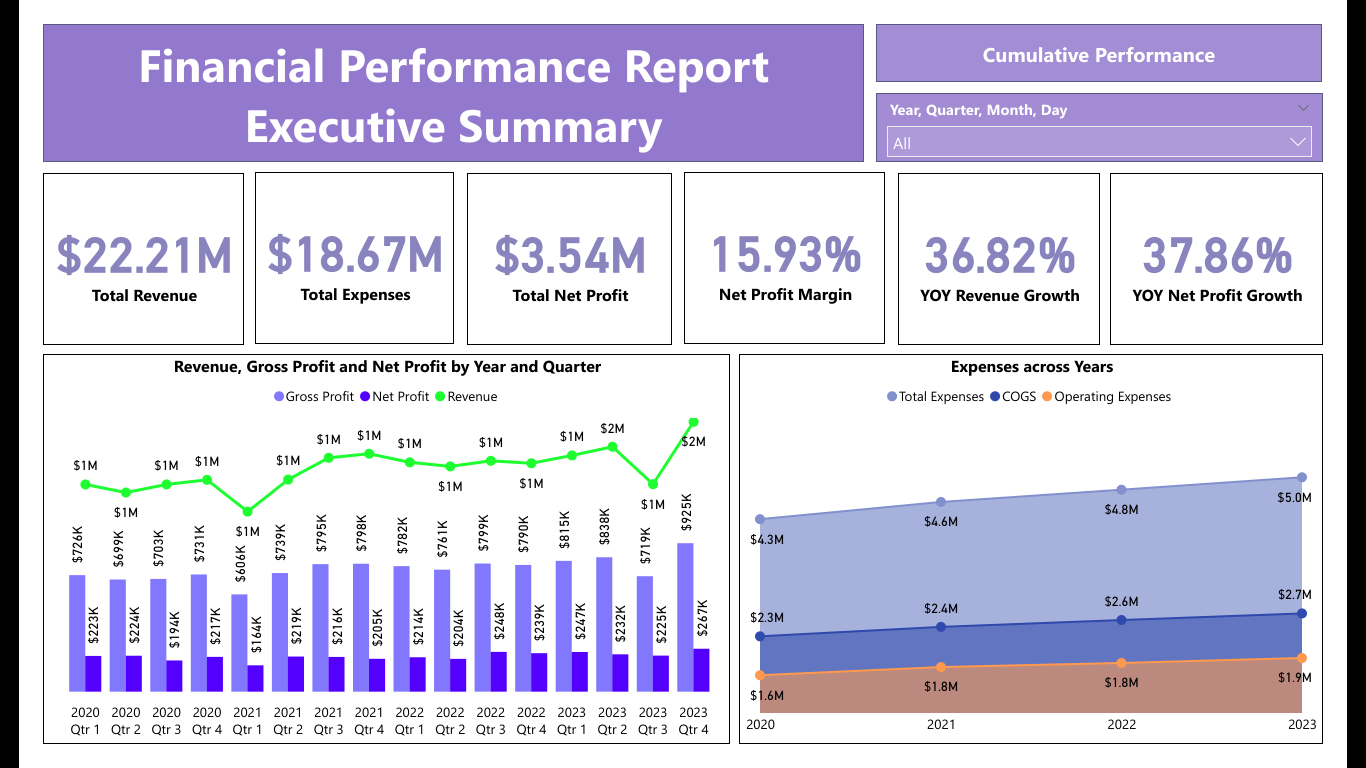

What the dashboard file says about the page in this screenshot:
{"tool":"powerbi","page":{"name":"Executive Summary","canvas":[1280,720],"ordinal":0},"visuals":[{"type":"lineClusteredColumnComboChart","title":"Revenue, Gross Profit and Net Profit by Year and Quarter","fields":{"Category":["Dates_table.Date.Variation.Date Hierarchy.Year","Dates_table.Date.Variation.Date Hierarchy.Quarter"],"Y":["Measures_table.Total Gross Profit","Measures_table.Total Net Profit"],"Y2":["Measures_table.Total Revenue"]},"box":[0,330.3,686.8,389.5],"z":0},{"type":"card","fields":{"Values":["Measures_table.Total Revenue"]},"box":[0,148.6,200.9,172],"z":1000},{"type":"card","fields":{"Values":["Measures_table.Total Net Profit"]},"box":[423.9,148.6,205.1,172],"z":2000},{"type":"pageNavigator","box":[833.1,0,446.7,58.8],"z":4000},{"type":"slicer","fields":{"Values":["Dates_table.Date.Variation.Date Hierarchy.Year","Dates_table.Date.Variation.Date Hierarchy.Quarter","Dates_table.Date.Variation.Date Hierarchy.Month","Dates_table.Date.Variation.Date Hierarchy.Day"]},"box":[833.1,69.1,446.7,69.1],"z":5000},{"type":"areaChart","title":"Expenses across Years","fields":{"Category":["Dates_table.Date.Variation.Date Hierarchy.Year","Dates_table.Date.Variation.Date Hierarchy.Quarter","Dates_table.Date.Variation.Date Hierarchy.Month","Dates_table.Date.Variation.Date Hierarchy.Day"],"Y":["Measures_table.Total Expenses","Measures_table.Total COGS","Measures_table.Total Operating Expenses"]},"box":[696.4,330.3,583.6,389.5],"z":6000},{"type":"card","fields":{"Values":["Measures_table.Net Profit Margin"]},"box":[640.7,148.4,201.3,171.9],"z":7000},{"type":"card","fields":{"Values":["Measures_table.Total Expenses"]},"box":[211.6,148.4,199.8,171.9],"z":8000},{"type":"card","fields":{"Values":["Measures_table.YOY Revenue Growth"]},"box":[854.7,148.6,202.3,172],"z":9000},{"type":"card","fields":{"Values":["Measures_table.YOY Net Profit Growth"]},"box":[1066.7,148.6,213.3,172],"z":10000},{"type":"shape","box":[0,0,821.4,138.1],"z":10001}]}

Visuals, with their boxes in screenshot pixels (x1, y1, x2, y2), scaled from the page's 1280x720 canvas onto the 1366x768 screenshot:
"Revenue, Gross Profit and Net Profit by Year and Quarter" lineClusteredColumnComboChart: detection(0, 352, 733, 767)
card - Measures_table.Total Revenue: detection(0, 159, 214, 342)
card - Measures_table.Total Net Profit: detection(452, 159, 671, 342)
pageNavigator: detection(889, 0, 1365, 63)
slicer - Dates_table.Date.Variation.Date Hierarchy.Year x Dates_table.Date.Variation.Date Hierarchy.Quarter: detection(889, 74, 1365, 147)
"Expenses across Years" areaChart: detection(743, 352, 1365, 767)
card - Measures_table.Net Profit Margin: detection(684, 158, 899, 342)
card - Measures_table.Total Expenses: detection(226, 158, 439, 342)
card - Measures_table.YOY Revenue Growth: detection(912, 159, 1128, 342)
card - Measures_table.YOY Net Profit Growth: detection(1138, 159, 1365, 342)
shape: detection(0, 0, 877, 147)
